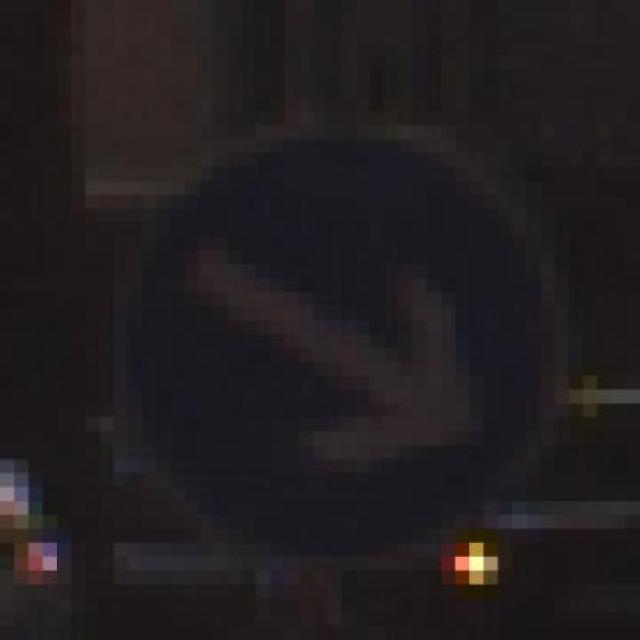Keep-Right: (71, 83, 569, 557)
